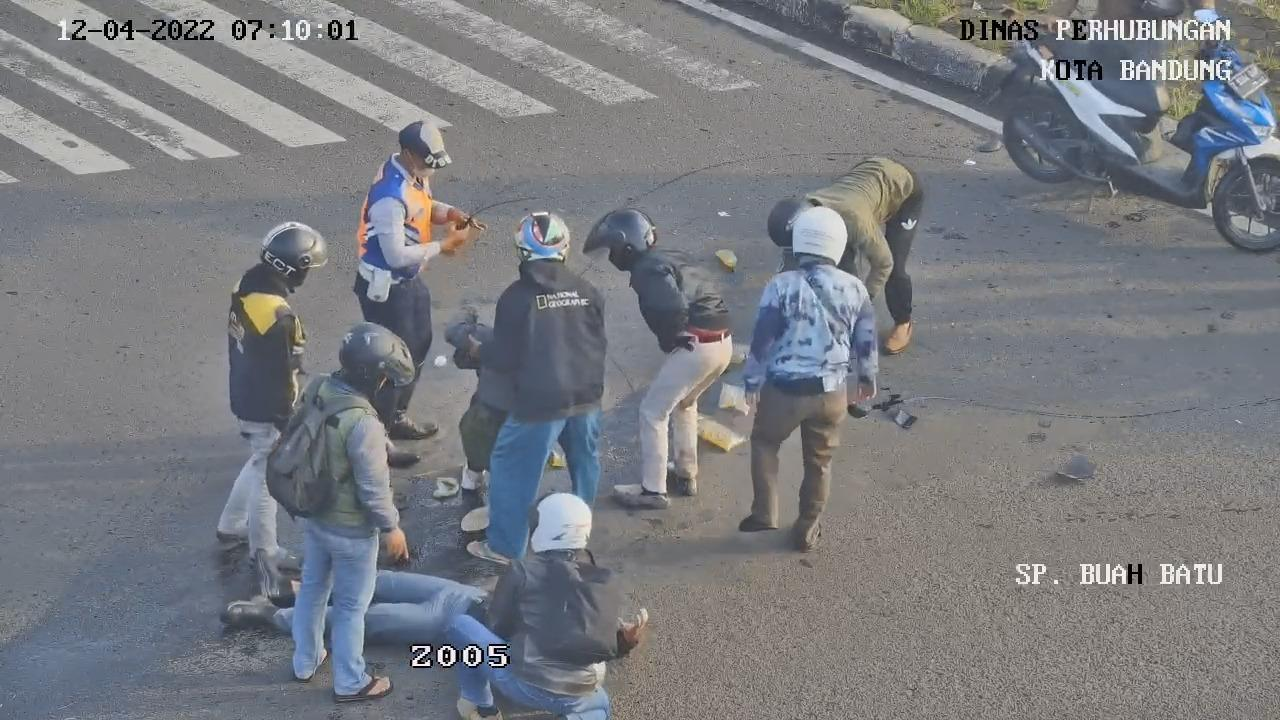accident: (210, 539, 485, 674)
